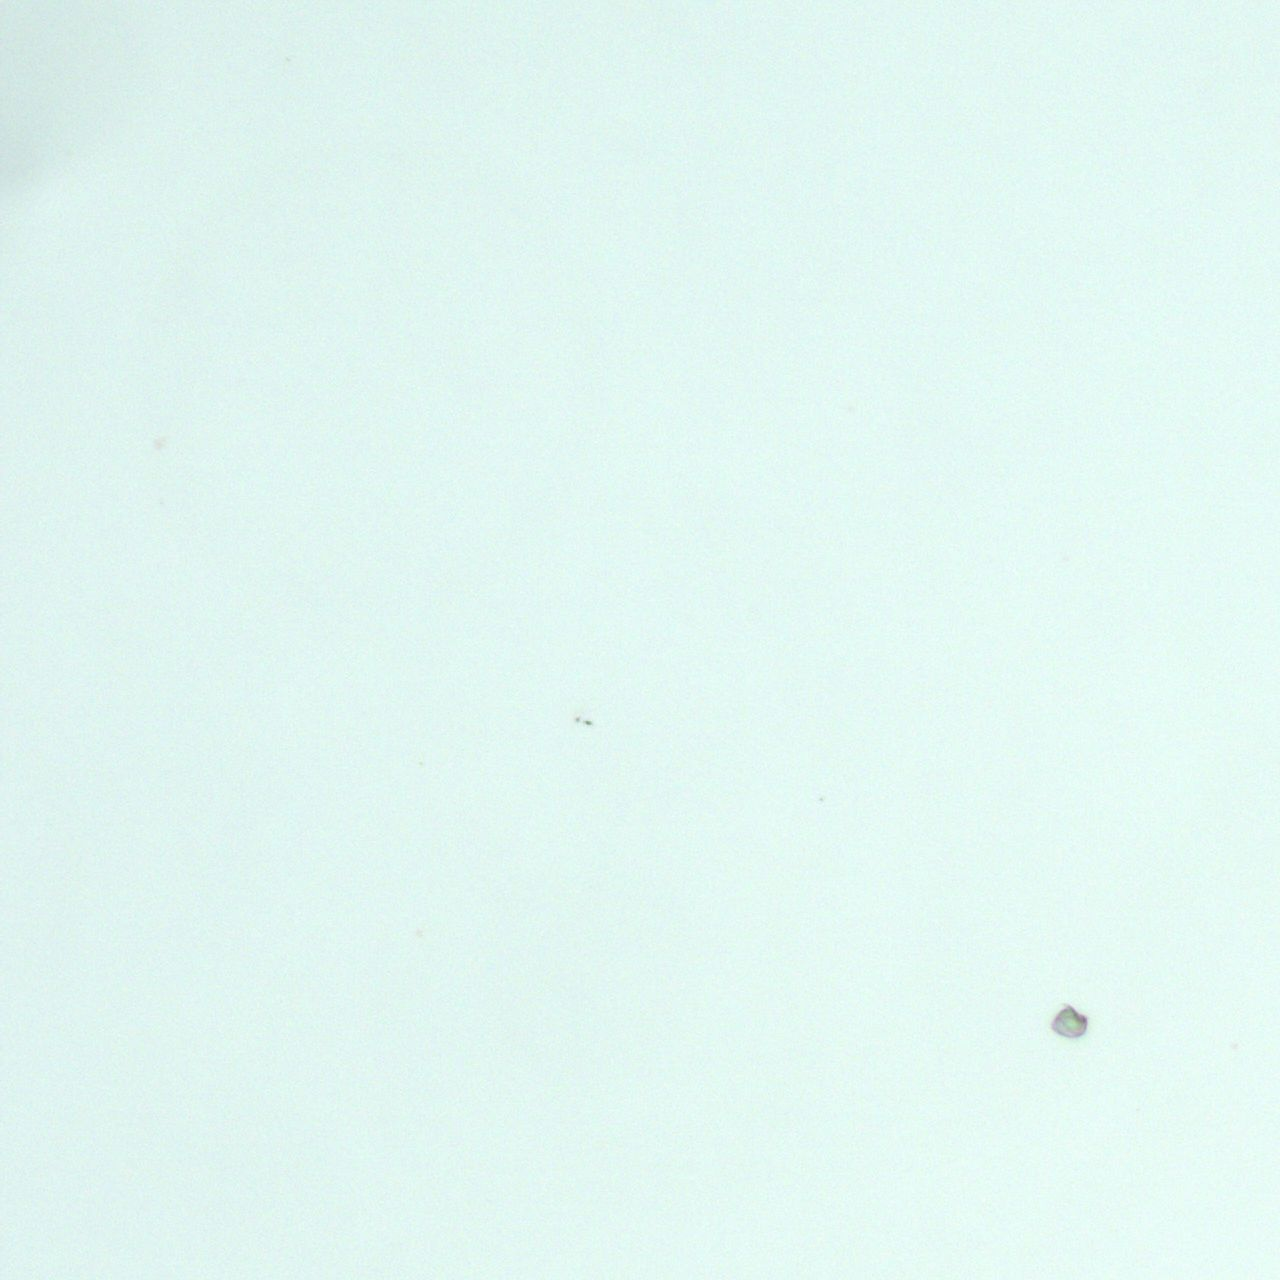dust: (1051, 1001, 1091, 1041), (585, 720, 592, 726), (576, 716, 581, 723)
